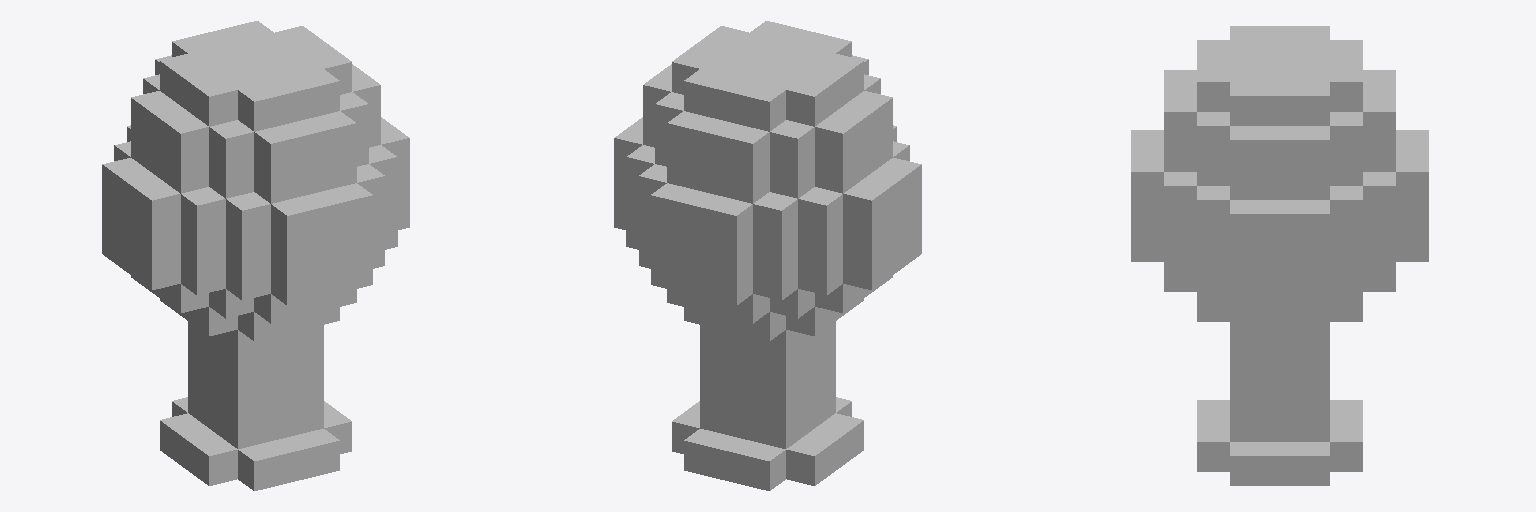
Rendered from TVS_VoxelKnights_Tree.obj.
3 views of the same model, side by side, from view 1: azimuth 30°, elevation 25°; view 2: azimuth 150°, elevation 25°; view 3: azimuth 270°, elevation 25° (orthographic).
Parts seen in each view (by area): view 1: ObjObject.011; view 2: ObjObject.011; view 3: ObjObject.011.
Part boxes in pixels (left/top/right/bottom): ObjObject.011: left=102, top=21, right=409, bottom=490; ObjObject.011: left=614, top=21, right=921, bottom=490; ObjObject.011: left=1131, top=26, right=1428, bottom=485.
Size of the model in its own units: 3.6 by 5.2 by 3.6.